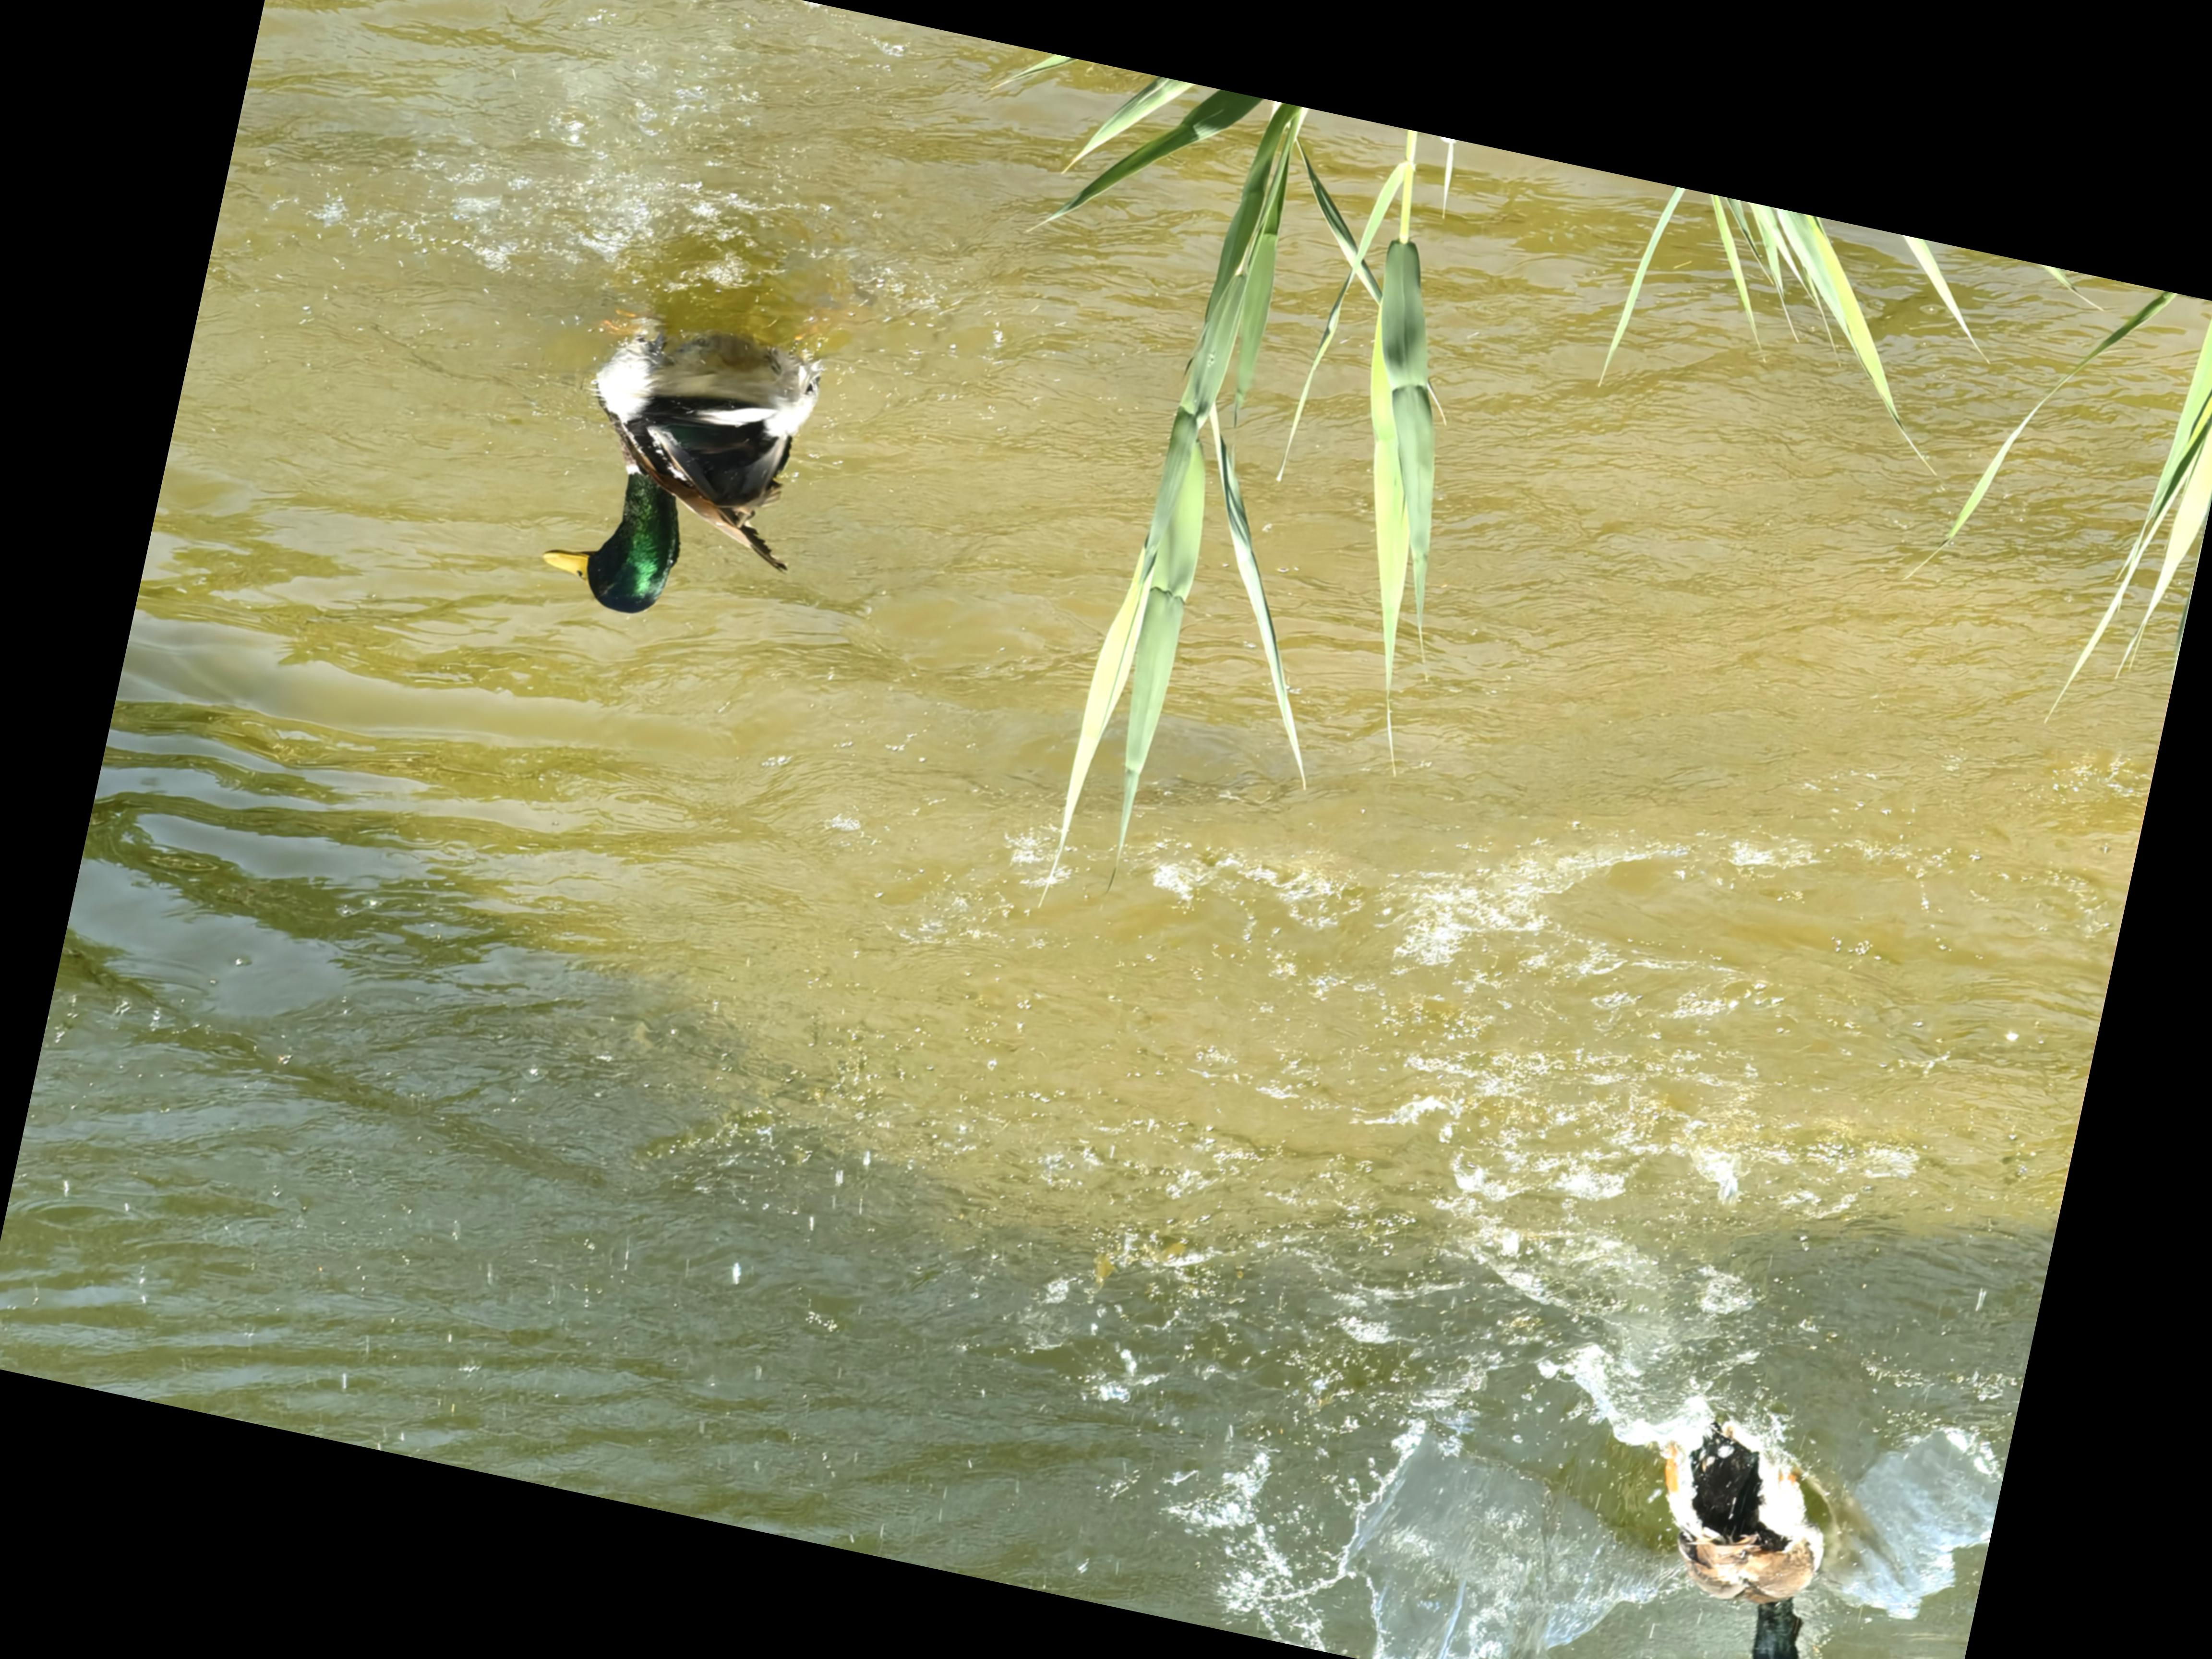duck: (475, 254, 890, 690), (1587, 1370, 1895, 1659)
